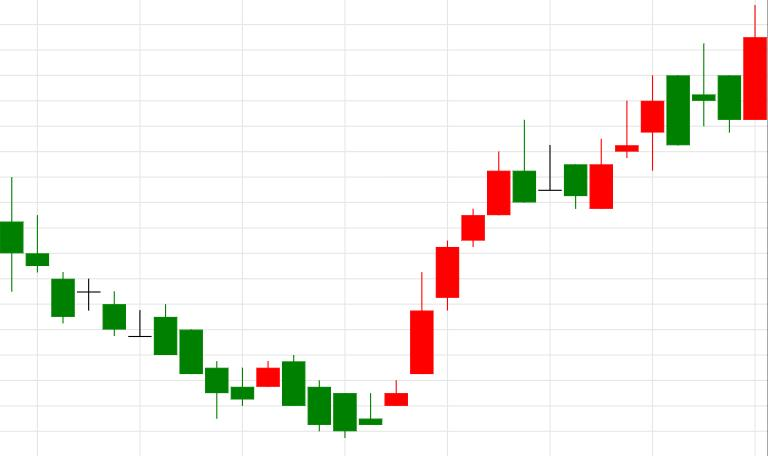shooting_star_fall: (384, 121, 536, 407)
